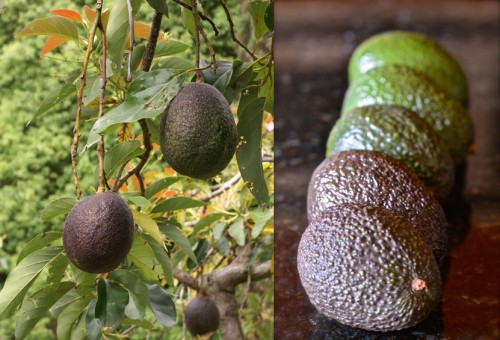fit_avocado: (291, 195, 444, 338), (42, 178, 148, 270)
unfit_avocado: (342, 30, 477, 104), (149, 81, 245, 184)
